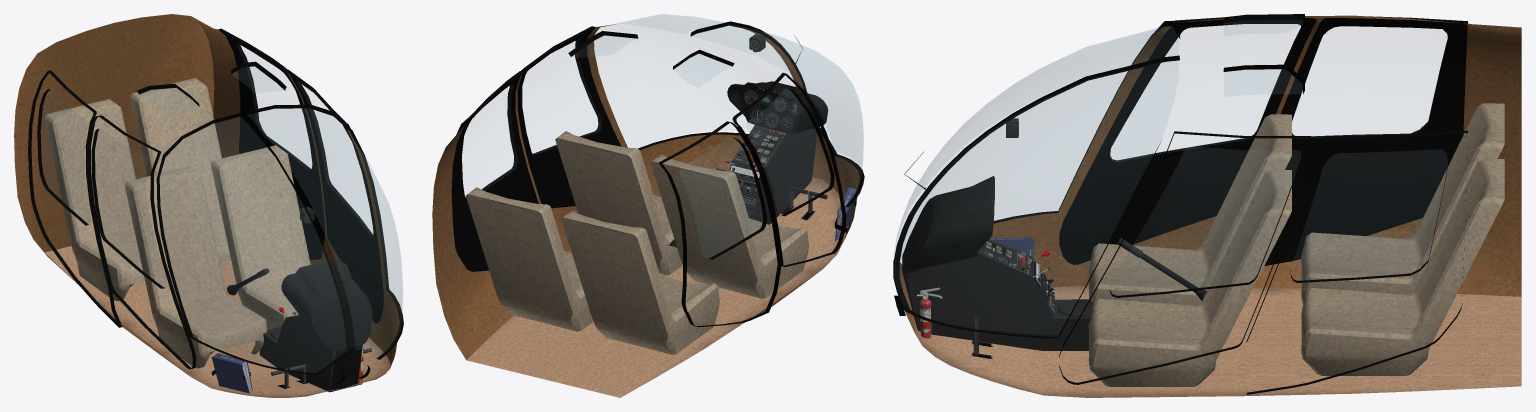
The model's file is interior.gltf.
The picture shows the model from 3 angles, left to right: view 1: azimuth 30°, elevation 25°; view 2: azimuth 150°, elevation 25°; view 3: azimuth 270°, elevation 25°; orthographic projection. The views are drawn at different scales.
Visible parts, largest first — view 1: Interior; view 2: Interior; view 3: Interior.
Part boxes in pixels (x1,y1,x2,y2): Interior: [14, 14, 403, 397]; Interior: [432, 14, 864, 397]; Interior: [893, 14, 1521, 397].
Bounding box in the file's own units: 1.33 × 1.25 × 2.4.
Materials: 35 (31 with a texture image).
